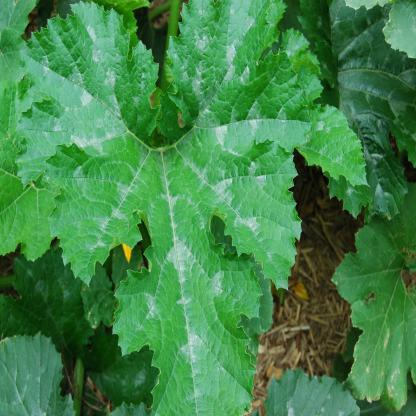Squash Powdery mildew leaf: (9, 0, 378, 416)
